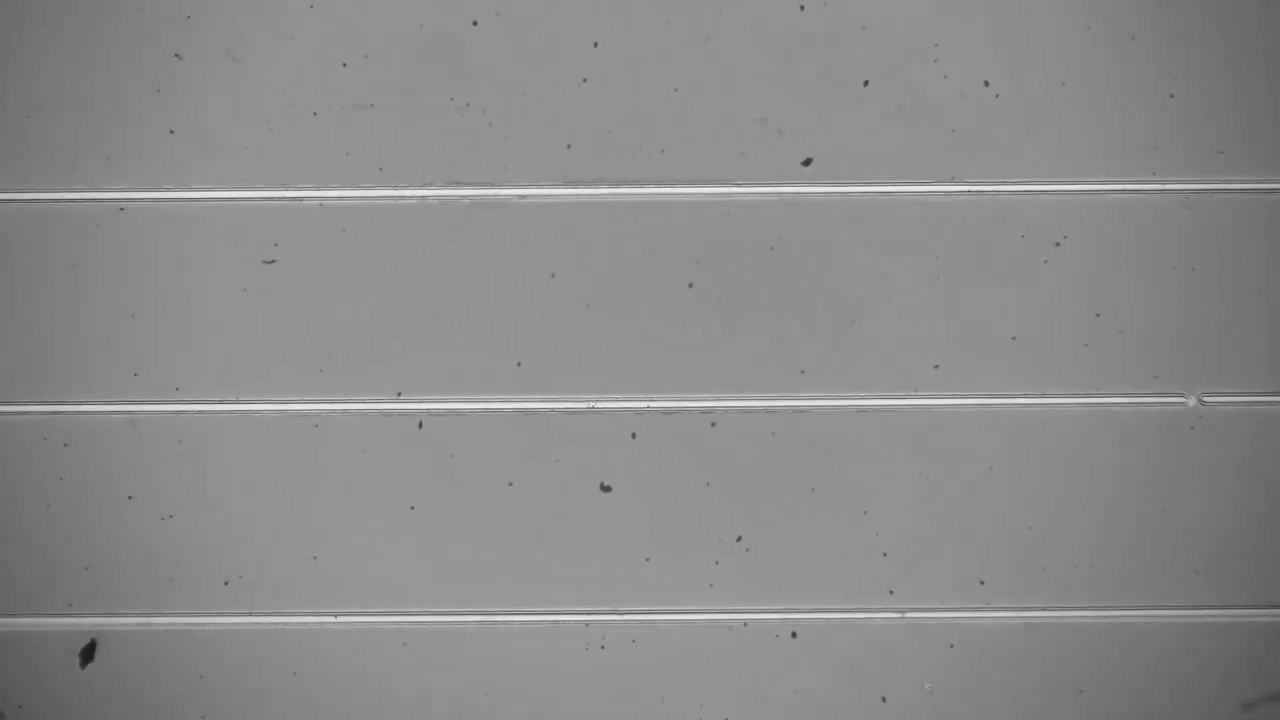open: (1168, 380, 1215, 425)
